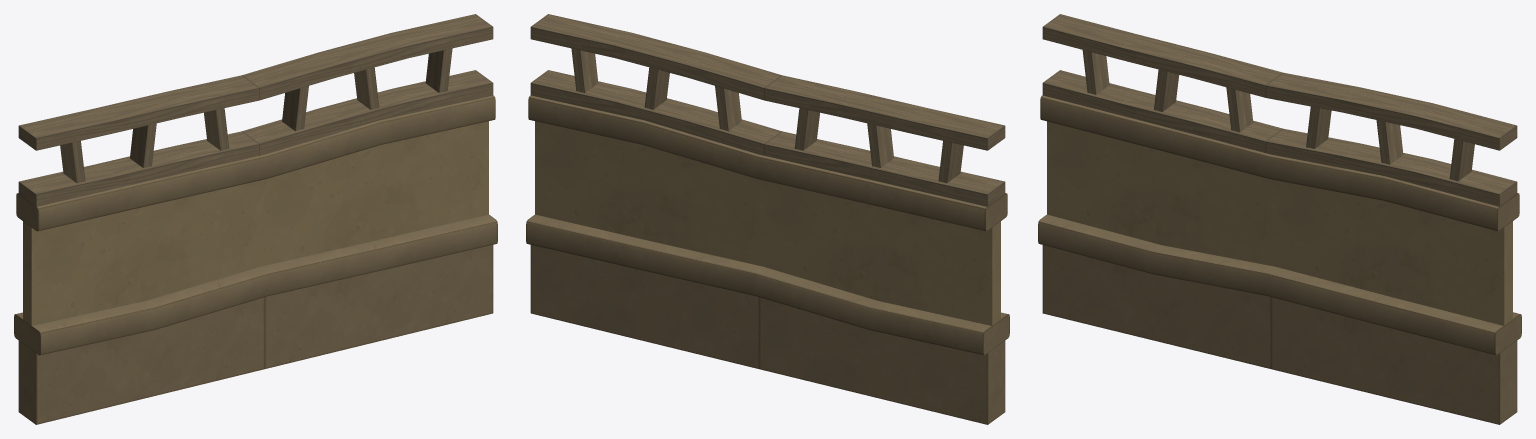
The model's file is SM_building_fence_04.glb.
3 views of the same model, side by side, from view 1: azimuth 30°, elevation 25°; view 2: azimuth 150°, elevation 25°; view 3: azimuth 330°, elevation 25° (orthographic).
Visible parts, largest first — view 1: SM_building_fence_04; view 2: SM_building_fence_04; view 3: SM_building_fence_04.
Part boxes in pixels (<box>): SM_building_fence_04: <box>14,14,497,424</box>; SM_building_fence_04: <box>526,14,1009,424</box>; SM_building_fence_04: <box>1038,14,1521,424</box>.
Size of the model in its own units: 6 by 3.61 by 0.6.
Materials: 3 (3 with a texture image).
